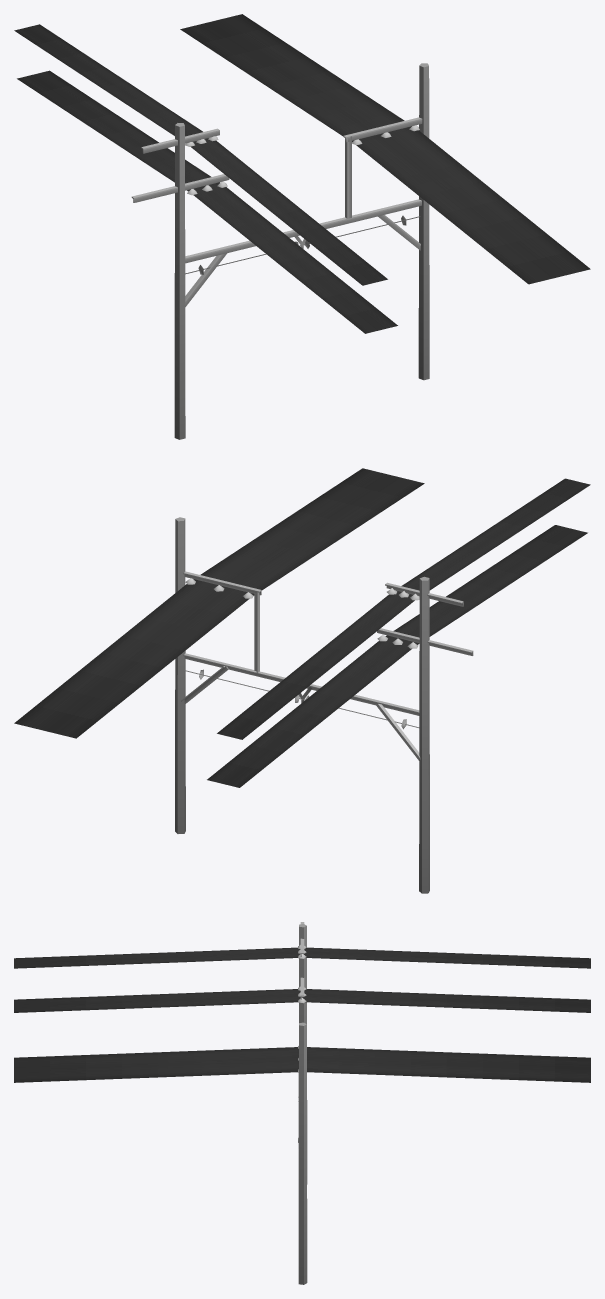
3 views of the same model, one above another, from view 1: azimuth 30°, elevation 25°; view 2: azimuth 150°, elevation 25°; view 3: azimuth 270°, elevation 25° (orthographic). The views are drawn at different scales.
Visible parts, largest first — view 1: Model; view 2: Model; view 3: Model.
Boxes of the visible parts, x1=… form: Model: x1=14, y1=14, x2=590, y2=439; Model: x1=14, y1=468, x2=590, y2=893; Model: x1=14, y1=922, x2=590, y2=1284.
Size of the model in its own units: 29.44 by 29.69 by 60.
Materials: 2 (1 with a texture image).
